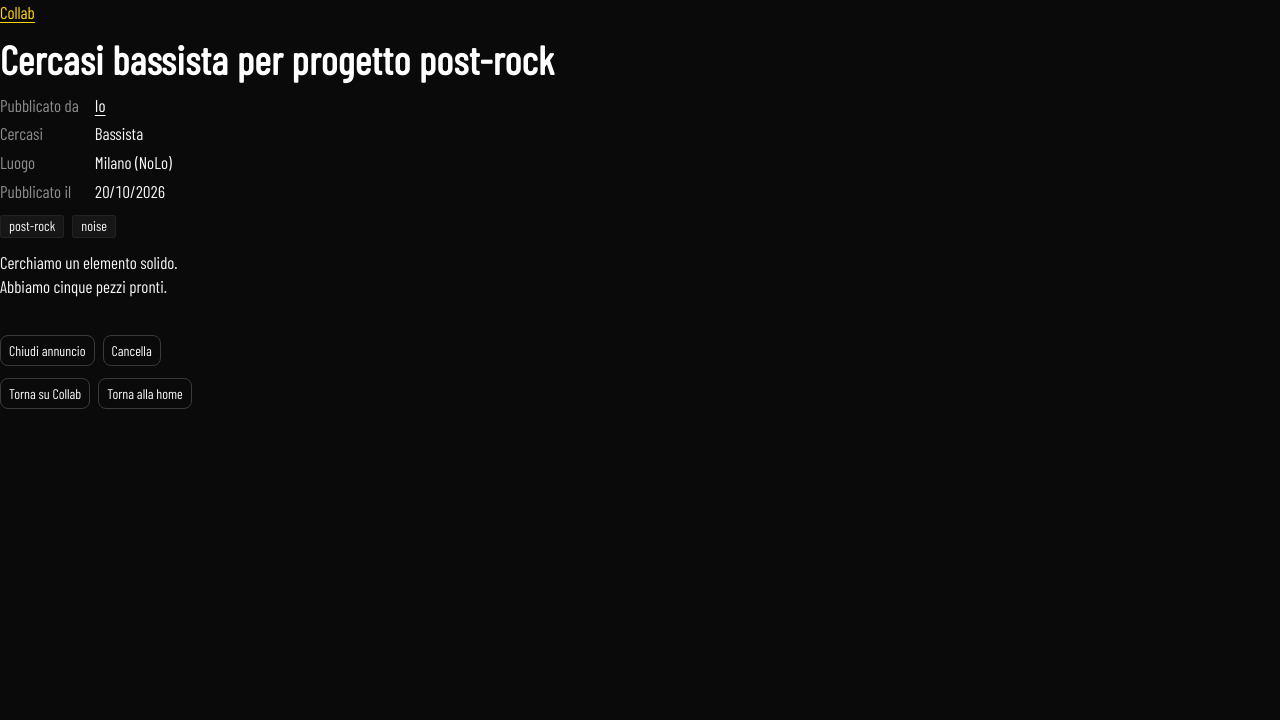
it: CollabDetailPage · azioni del proprietario › «Cancella» apre la conferma con il motivo facoltativo
Click the button "Cancella": (132, 350) [102,335,161,366]
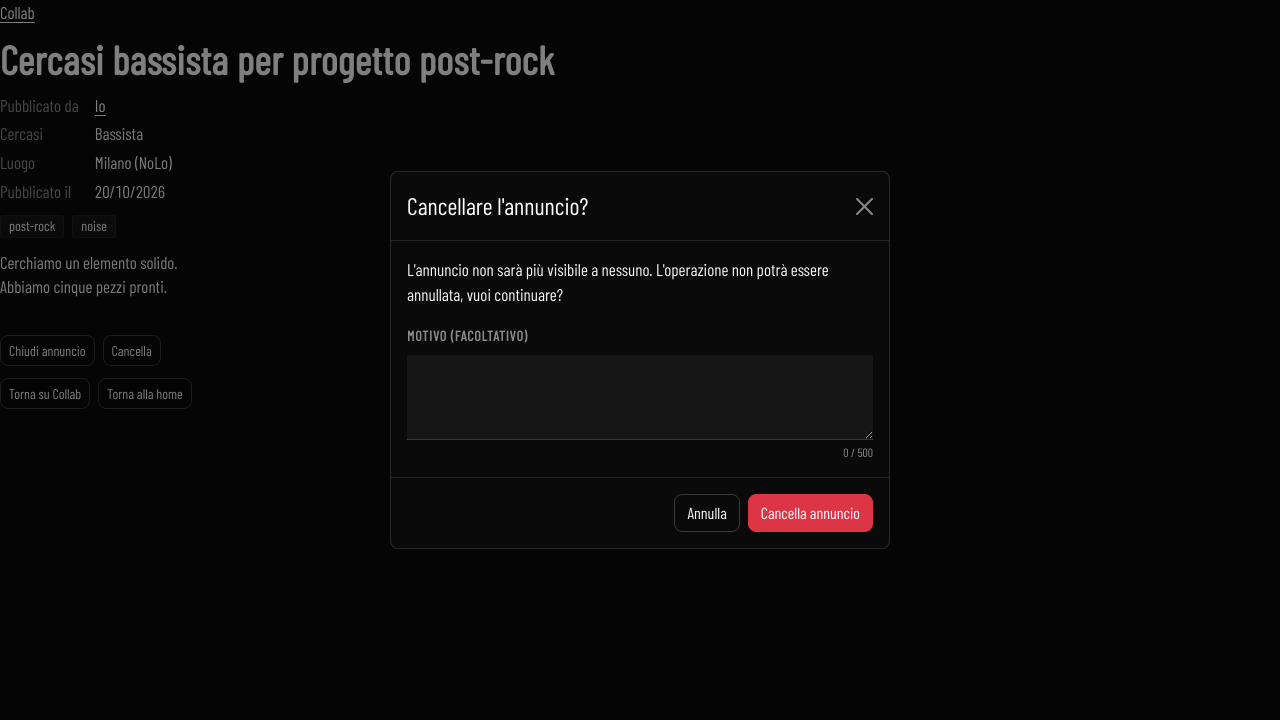
Check: the dialog "Cancellare l'annuncio?" shows "L'annuncio non sarà più visibile a nessuno. L'operazione non potrà essere annullata, vuoi continuare?", box [407,259,829,304]
Check: the text box labelled "Motivo (facoltativo)" is shown, box [407,355,873,440]
Check: the button "Cancella annuncio" is shown, box [748,494,873,532]
